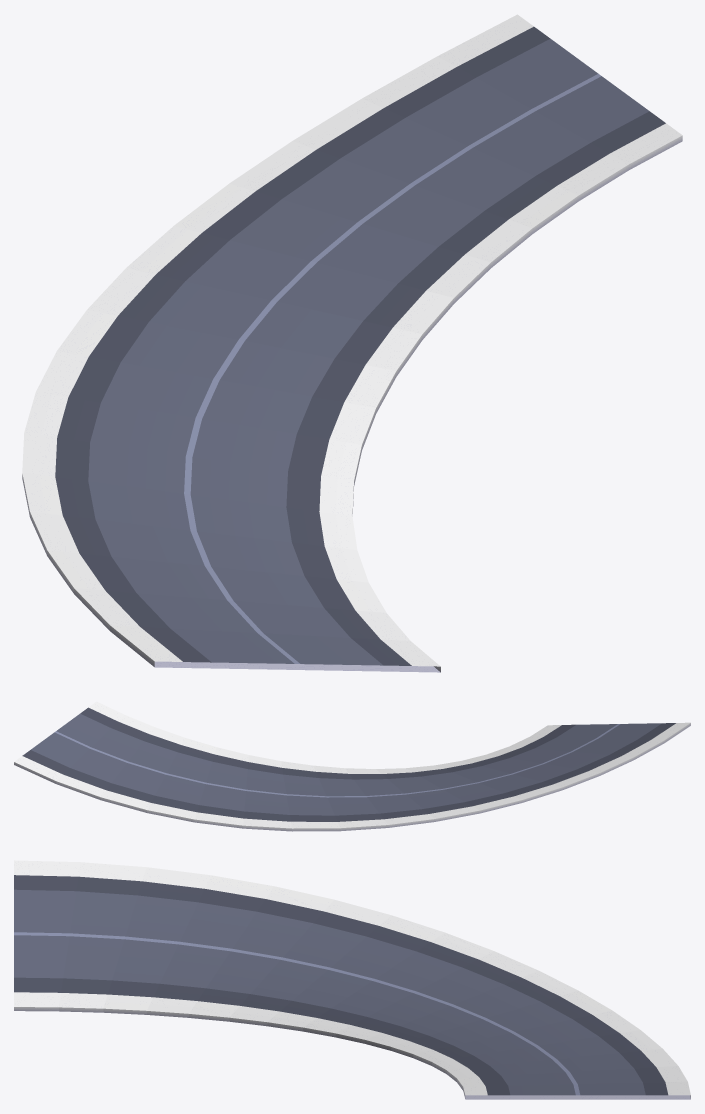
The model's file is road-Turn-HalfBankedRight-BiSlopeUp-Up2-Right-Size3.glb.
3 renders of one model, top to bottom at view 1: azimuth 30°, elevation 25°; view 2: azimuth 150°, elevation 25°; view 3: azimuth 270°, elevation 25°, orthographic. The views are drawn at different scales.
Parts seen in each view (by area): view 1: road-Turn-HalfBankedRight-BiSlopeUp-Up2-Right-Size3; view 2: road-Turn-HalfBankedRight-BiSlopeUp-Up2-Right-Size3; view 3: road-Turn-HalfBankedRight-BiSlopeUp-Up2-Right-Size3.
Part boxes in pixels (x1,y1,x2,y2): road-Turn-HalfBankedRight-BiSlopeUp-Up2-Right-Size3: (22,14,682,672); road-Turn-HalfBankedRight-BiSlopeUp-Up2-Right-Size3: (14,701,690,831); road-Turn-HalfBankedRight-BiSlopeUp-Up2-Right-Size3: (14,860,690,1099).
Bounding box in the file's own units: 3 × 0.52 × 3.
1 material, 1 textured.
